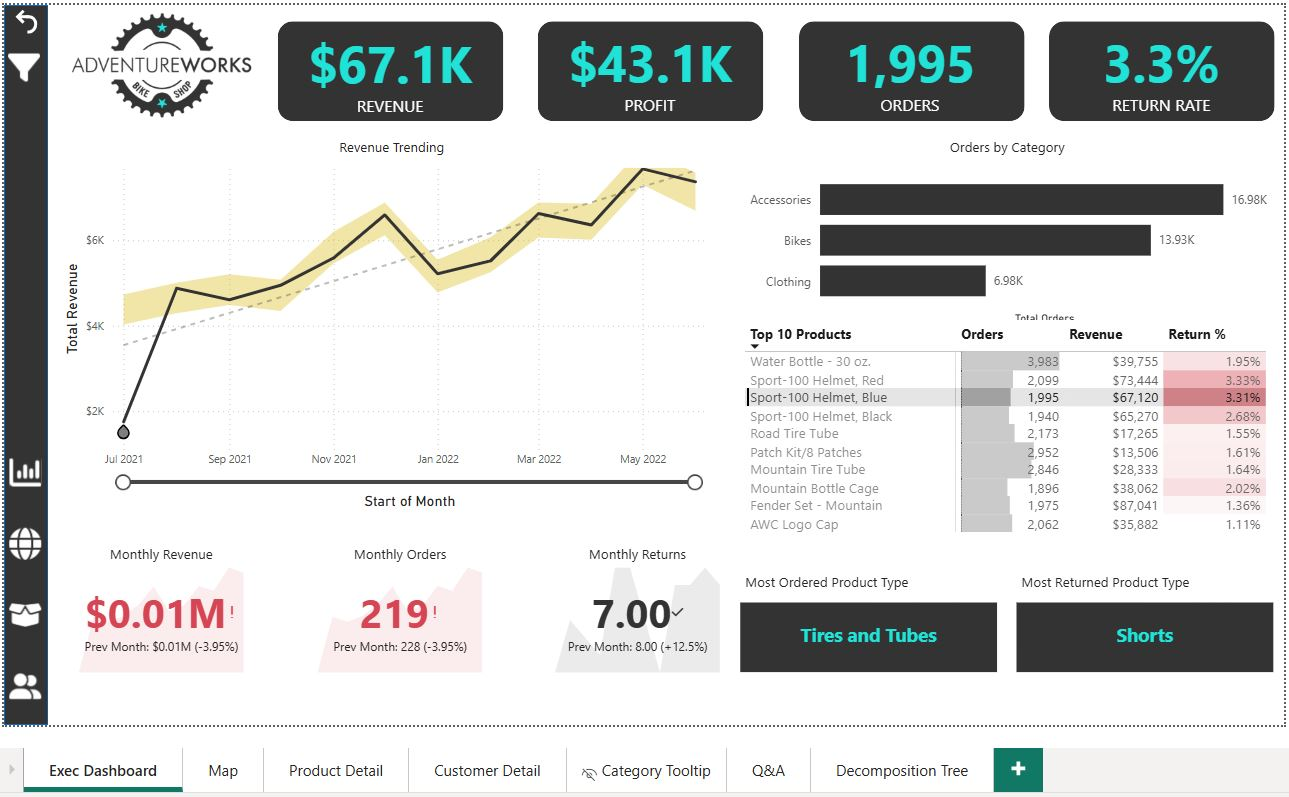

What the dashboard file says about the page in this screenshot:
{"tool":"powerbi","page":{"name":"Exec Dashboard","canvas":[1280,720],"ordinal":0},"visuals":[{"type":"shape","title":"Left Nav. Background","box":[0,0,44.3,720],"z":0},{"type":"card","fields":{"Values":["Mesure Table.Total Profit"]},"box":[530,1.2,232.5,130],"z":0,"group":"g2"},{"type":"group","id":"g1","title":"KPI Backgrounds","box":[272.8,15.7,997.1,100],"z":0,"group":"g3"},{"type":"shape","box":[272.8,15.7,225.7,100],"z":0,"group":"g1"},{"type":"actionButton","box":[1,590,44.3,40],"z":0,"group":"g4"},{"type":"image","title":"AW Logo","box":[43.8,0,228.8,121.2],"z":1000},{"type":"group","id":"g2","title":"KPI Values","box":[269.7,1.2,1004,130.8],"z":1000,"group":"g3"},{"type":"card","fields":{"Values":["Mesure Table.Total Revenue"]},"box":[269.7,2,232.5,130],"z":1000,"group":"g2"},{"type":"shape","box":[1044.2,15.7,225.7,100],"z":1000,"group":"g1"},{"type":"actionButton","box":[1,447.1,48.9,40],"z":1000,"group":"g4"},{"type":"group","id":"g3","title":"KPI'S","box":[269.7,1.2,1004,130.8],"z":2000},{"type":"card","fields":{"Values":["Mesure Table.Total Orders"]},"box":[790,1.2,232.5,130],"z":2000,"group":"g2"},{"type":"shape","box":[533.3,15.7,225.7,100],"z":2000,"group":"g1"},{"type":"actionButton","box":[1,661.4,44.3,40],"z":2000,"group":"g4"},{"type":"card","fields":{"Values":["Mesure Table.Return Rate"]},"box":[1041.2,1.2,232.5,130],"z":3000,"group":"g2"},{"type":"shape","box":[793.8,15.7,225.7,100],"z":3000,"group":"g1"},{"type":"lineChart","title":" Revenue Trending","fields":{"Category":["Calendar Lookup.Start of Month"],"Y":["Mesure Table.Total Revenue"]},"box":[55.5,132.7,665.7,376.3],"z":3000},{"type":"actionButton","box":[1,518.5,44.3,40],"z":3000,"group":"g4"},{"type":"kpi","title":"Monthly Revenue","fields":{"Indicator":["Mesure Table.Total Revenue"],"TrendLine":["Calendar Lookup.Start of Month"],"Goal":["Mesure Table.Previous Month Revenue"]},"box":[69.9,540.3,174.9,132.7],"z":4000},{"type":"kpi","title":"Monthly Orders","fields":{"TrendLine":["Calendar Lookup.Start of Month"],"Indicator":["Mesure Table.Total Orders"],"Goal":["Mesure Table.Previous Month Orders"]},"box":[308.1,540.3,174.9,132.7],"z":5000},{"type":"kpi","title":"Monthly Returns","fields":{"TrendLine":["Calendar Lookup.Start of Month"],"Indicator":["Customer Lookup.Total Returns"],"Goal":["Mesure Table.Previous Month Returns"]},"box":[546.3,540.3,174.9,132.7],"z":6000},{"type":"clusteredBarChart","title":"Orders by Category","fields":{"Category":["Product Categories Lookup.CategoryName"],"Y":["Mesure Table.Total Orders"]},"box":[735.7,132.7,534.3,191.8],"z":7000},{"type":"pivotTable","fields":{"Rows":["Product Lookup.ProductName"],"Values":["Mesure Table.Total Orders","Mesure Table.Total Revenue","Mesure Table.Return Rate"]},"box":[736.2,315,532.5,225],"z":8000},{"type":"card","fields":{"Values":["Min(Product Subcategories Lookup.SubcategoryName)"]},"box":[736.1,597.9,256.8,69.7],"z":9000},{"type":"textbox","box":[736.2,562.2,256.2,35],"z":10000},{"type":"card","fields":{"Values":["Min(Product Subcategories Lookup.SubcategoryName)"]},"box":[1012.5,597.9,256.8,69.7],"z":11000},{"type":"textbox","box":[1012.5,562.2,256.2,35],"z":12000},{"type":"actionButton","box":[5.7,0,38.6,32.9],"z":13000},{"type":"group","id":"g4","title":"Navigation Buttons","box":[1,447.1,48.9,254.3],"z":14000},{"type":"actionButton","box":[0,42.9,44.3,40],"z":15000}]}

Visuals, with their boxes on the page's 1280x720 design canvas (x1, y1, x2, y2). These are canvas units, not pixel positions in the 1289x797 screenshot, which may show the page scaled, cropped or inside an application window:
"Left Nav. Background" shape: box=[0, 0, 44, 720]
card - Mesure Table.Total Profit: box=[530, 1, 762, 131]
"KPI Backgrounds" group: box=[273, 16, 1270, 116]
shape: box=[273, 16, 498, 116]
actionButton: box=[1, 590, 45, 630]
"AW Logo" image: box=[44, 0, 273, 121]
"KPI Values" group: box=[270, 1, 1274, 132]
card - Mesure Table.Total Revenue: box=[270, 2, 502, 132]
shape: box=[1044, 16, 1270, 116]
actionButton: box=[1, 447, 50, 487]
"KPI'S" group: box=[270, 1, 1274, 132]
card - Mesure Table.Total Orders: box=[790, 1, 1022, 131]
shape: box=[533, 16, 759, 116]
actionButton: box=[1, 661, 45, 701]
card - Mesure Table.Return Rate: box=[1041, 1, 1274, 131]
shape: box=[794, 16, 1020, 116]
" Revenue Trending" lineChart: box=[56, 133, 721, 509]
actionButton: box=[1, 518, 45, 558]
"Monthly Revenue" kpi: box=[70, 540, 245, 673]
"Monthly Orders" kpi: box=[308, 540, 483, 673]
"Monthly Returns" kpi: box=[546, 540, 721, 673]
"Orders by Category" clusteredBarChart: box=[736, 133, 1270, 324]
pivotTable - Product Lookup.ProductName x Mesure Table.Total Orders: box=[736, 315, 1269, 540]
card - Min(Product Subcategories Lookup.SubcategoryName): box=[736, 598, 993, 668]
textbox: box=[736, 562, 992, 597]
card - Min(Product Subcategories Lookup.SubcategoryName): box=[1012, 598, 1269, 668]
textbox: box=[1012, 562, 1269, 597]
actionButton: box=[6, 0, 44, 33]
"Navigation Buttons" group: box=[1, 447, 50, 701]
actionButton: box=[0, 43, 44, 83]
